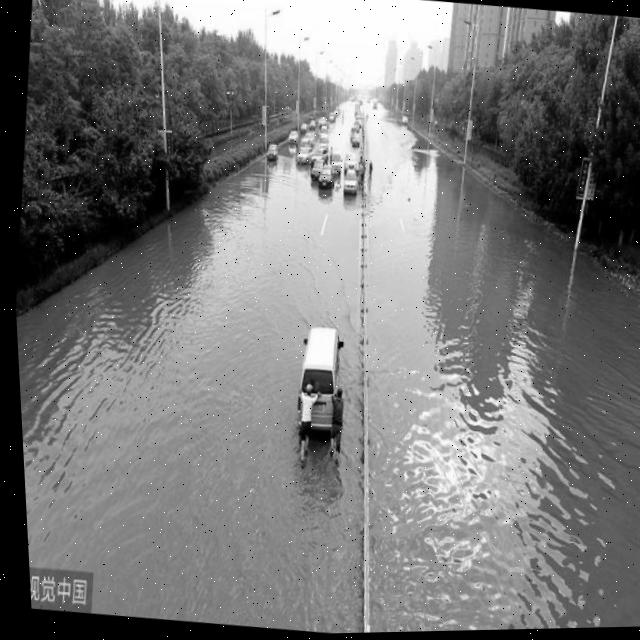civilian: (282, 379, 333, 464), (317, 378, 361, 460)
